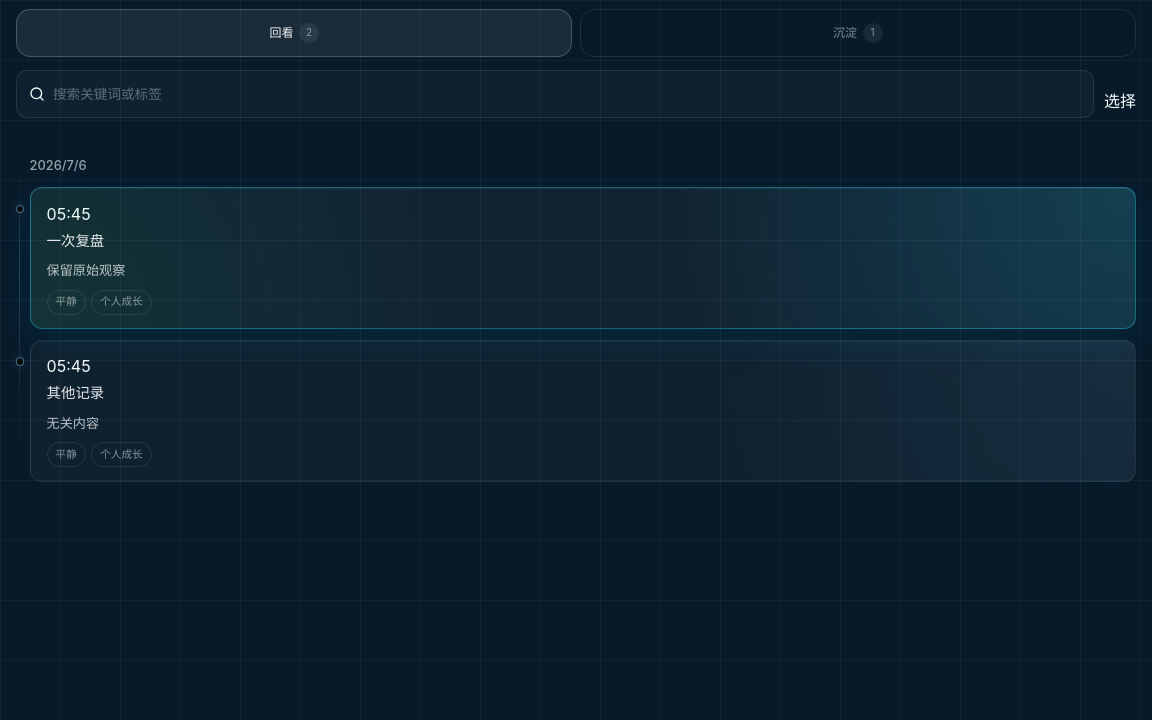
Test: PastRepository › does not expand record search through a linked principle
Step 1. Type "确认事实" into the search field named "搜索记录" → (567, 94), box top-left (53, 84), bottom-right (1081, 105)
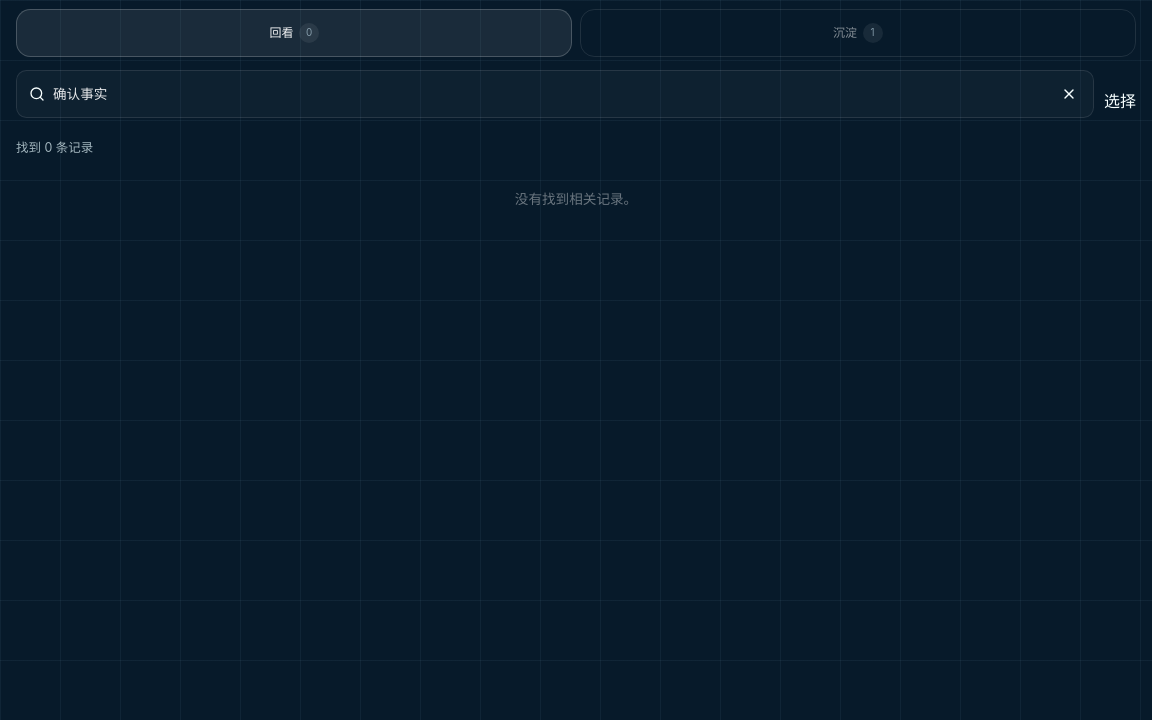
Expected: the text "一次复盘" is gone
Expected: the text "其他记录" is gone
